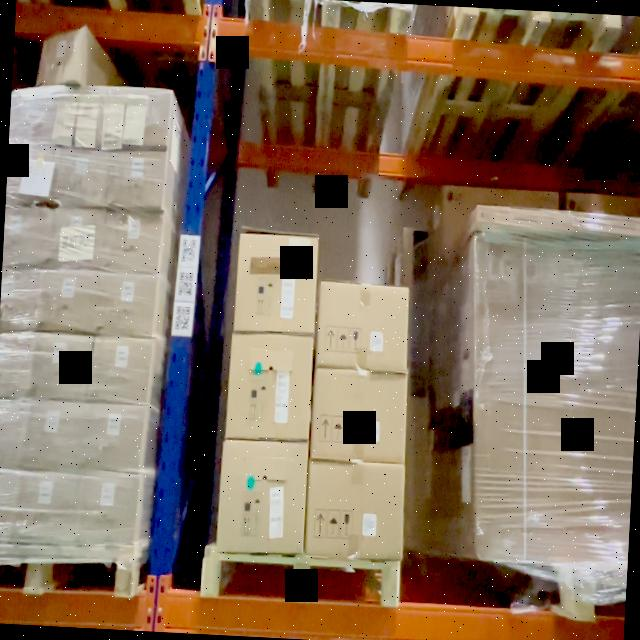box: (218, 442, 308, 554), (306, 459, 405, 557), (311, 369, 408, 462), (228, 336, 312, 440), (318, 282, 410, 372), (236, 234, 318, 333), (76, 475, 140, 547), (84, 402, 144, 474), (26, 400, 86, 472), (104, 87, 172, 149), (19, 472, 76, 544), (33, 332, 90, 400), (92, 336, 150, 402), (39, 270, 100, 332), (98, 274, 156, 338), (49, 206, 106, 270), (104, 210, 162, 272), (108, 148, 166, 206), (54, 148, 109, 208), (442, 186, 560, 212), (36, 27, 85, 85), (58, 86, 104, 144), (478, 207, 579, 230), (566, 193, 640, 215)
